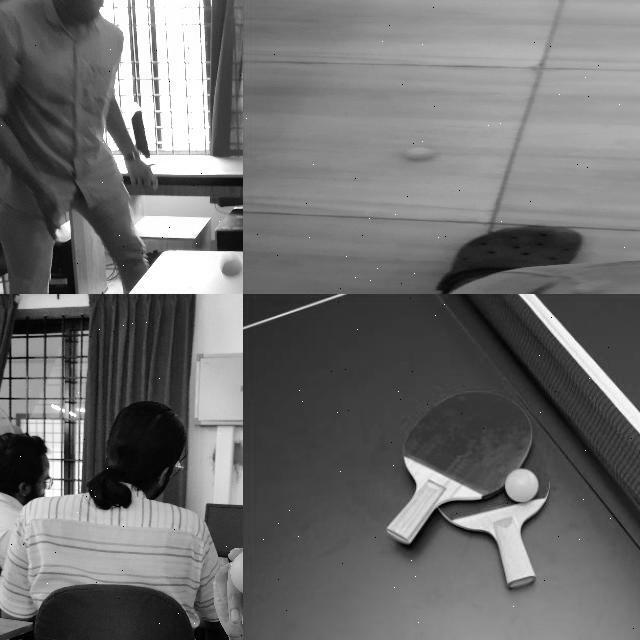ping-pong-ball: (504, 469, 538, 501), (217, 250, 242, 281), (228, 549, 242, 595), (404, 148, 432, 158)
